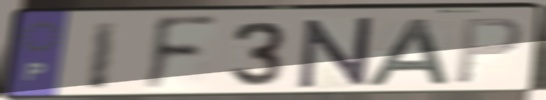3: (225, 20, 291, 88)
A: (362, 16, 454, 88)
F: (140, 13, 222, 97)
I: (84, 19, 122, 93)
N: (297, 15, 375, 91)
P: (452, 15, 526, 87)
